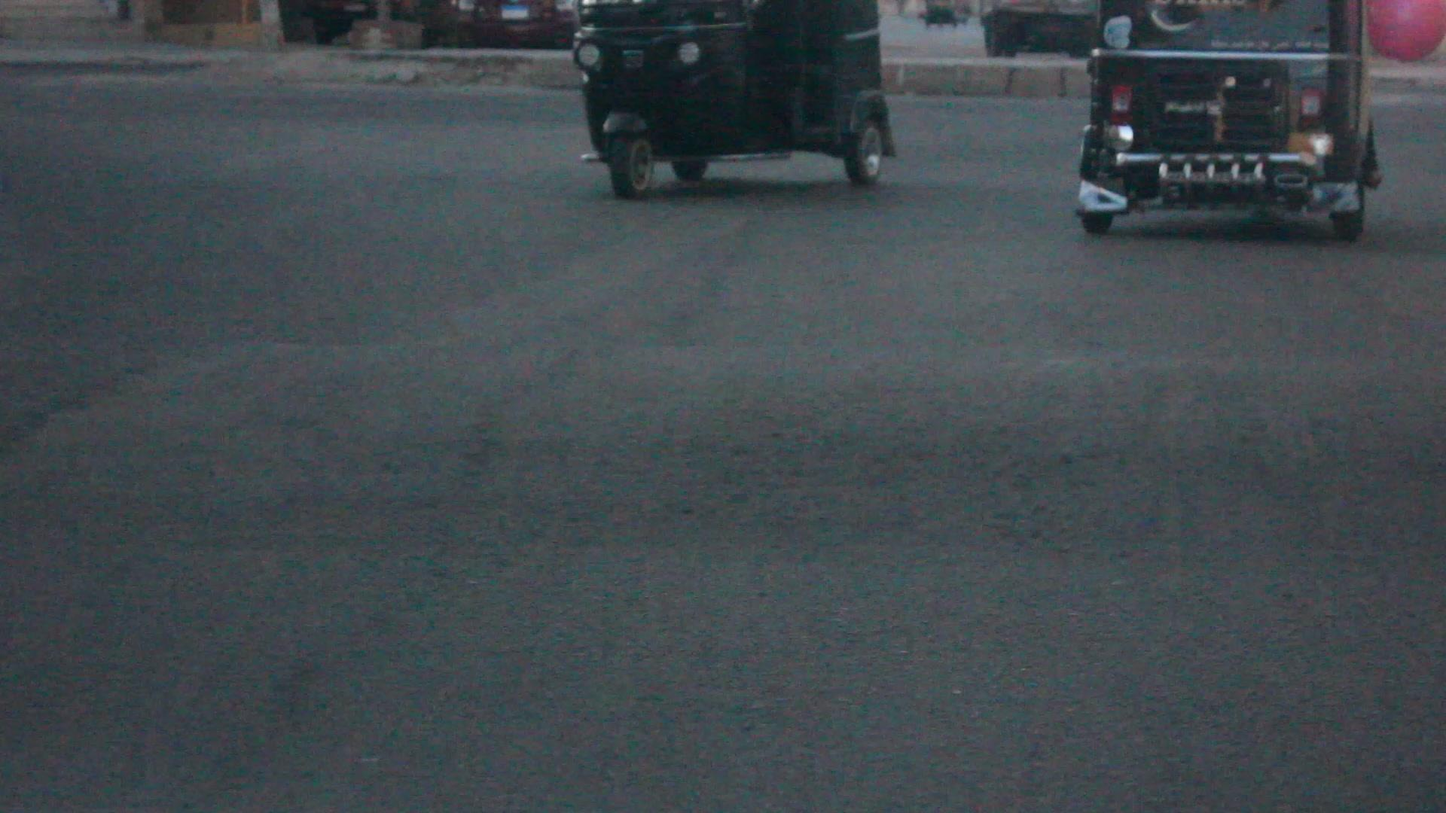Bump: (0, 339, 1446, 506)
